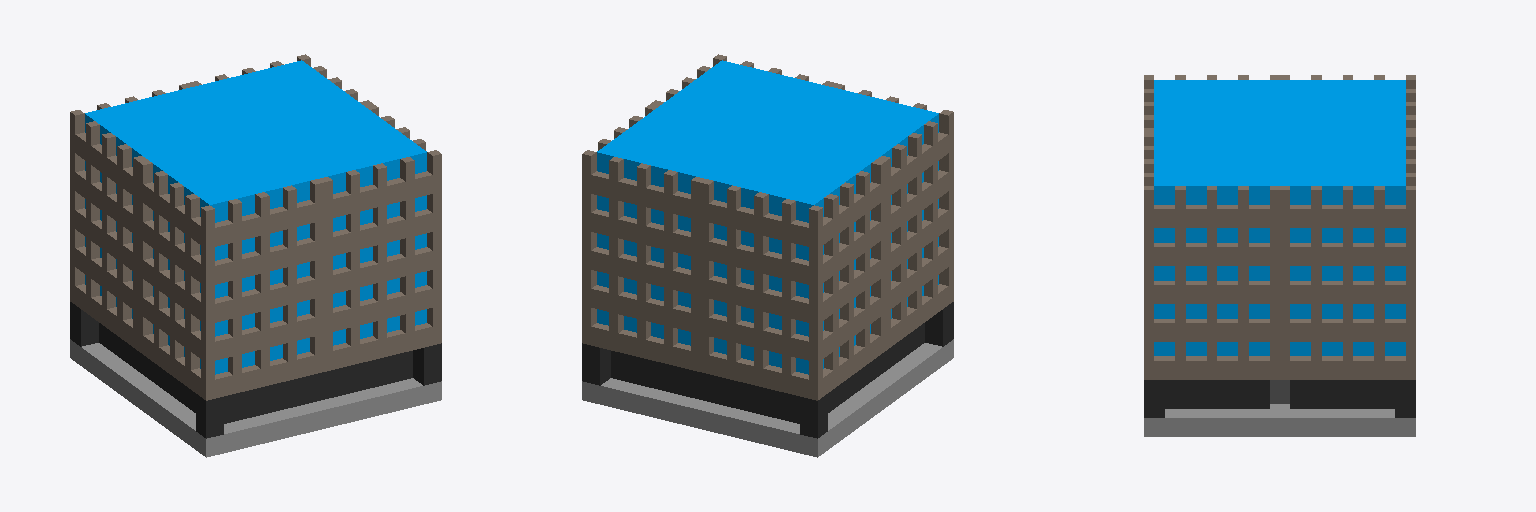
3 views of the same model, side by side, from view 1: azimuth 30°, elevation 25°; view 2: azimuth 150°, elevation 25°; view 3: azimuth 270°, elevation 25° (orthographic).
Visible parts, largest first — view 1: object 1; view 2: object 1; view 3: object 1.
Part boxes in pixels (x1,y1,x2,y2): object 1: (70, 54, 441, 457); object 1: (582, 54, 953, 457); object 1: (1144, 75, 1415, 436).
Bounding box in the file's own units: 2.6 × 2.6 × 2.6.
1 materials, 1 textured.